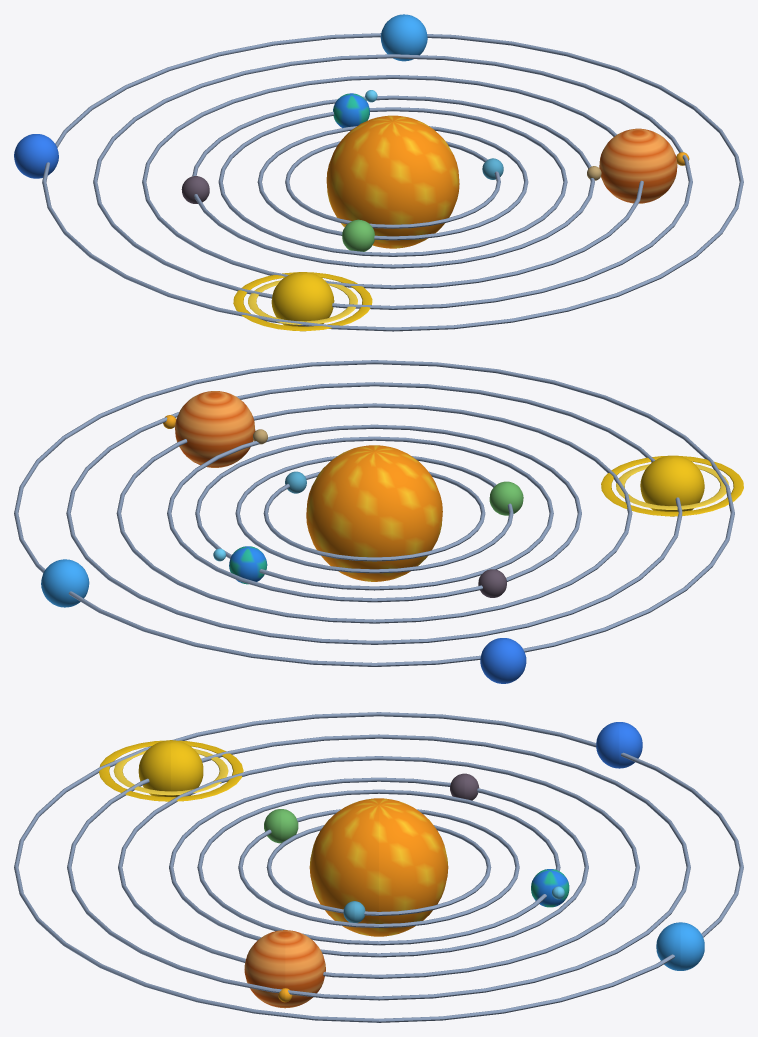
File: 10_solar_system_orrery.glb
3 views of the same model, one above another, from view 1: azimuth 30°, elevation 25°; view 2: azimuth 150°, elevation 25°; view 3: azimuth 270°, elevation 25° (orthographic). The views are drawn at different scales.
Parts seen in each view (by area): view 1: Ecliptic Planetary Orbital Tracks, The Sun (G-Type Main-Sequence Star), Saturn & Planetary Ring System, Jupiter & Galilean Moons, Ice Giants (Uranus & Neptune), Inner Terrestrial Planets (Mercury, Venus, Earth & Mars); view 2: Ecliptic Planetary Orbital Tracks, The Sun (G-Type Main-Sequence Star), Saturn & Planetary Ring System, Jupiter & Galilean Moons, Ice Giants (Uranus & Neptune), Inner Terrestrial Planets (Mercury, Venus, Earth & Mars); view 3: Ecliptic Planetary Orbital Tracks, The Sun (G-Type Main-Sequence Star), Saturn & Planetary Ring System, Jupiter & Galilean Moons, Ice Giants (Uranus & Neptune), Inner Terrestrial Planets (Mercury, Venus, Earth & Mars).
Part boxes in pixels (box(x1,y1,x2,y2)): Ecliptic Planetary Orbital Tracks: box(42, 33, 743, 331); The Sun (G-Type Main-Sequence Star): box(326, 115, 459, 248); Saturn & Planetary Ring System: box(233, 272, 372, 331); Jupiter & Galilean Moons: box(587, 128, 689, 203); Ice Giants (Uranus & Neptune): box(14, 14, 427, 178); Inner Terrestrial Planets (Mercury, Venus, Earth & Mars): box(181, 90, 503, 251); Ecliptic Planetary Orbital Tracks: box(14, 360, 734, 666); The Sun (G-Type Main-Sequence Star): box(306, 445, 442, 581); Saturn & Planetary Ring System: box(601, 455, 743, 516); Jupiter & Galilean Moons: box(163, 391, 267, 467); Ice Giants (Uranus & Neptune): box(41, 559, 526, 683); Inner Terrestrial Planets (Mercury, Venus, Earth & Mars): box(213, 471, 523, 597); Ecliptic Planetary Orbital Tracks: box(14, 712, 743, 1022); The Sun (G-Type Main-Sequence Star): box(309, 798, 448, 936); Saturn & Planetary Ring System: box(99, 740, 243, 801); Jupiter & Galilean Moons: box(244, 930, 325, 1008); Ice Giants (Uranus & Neptune): box(596, 722, 704, 970); Inner Terrestrial Planets (Mercury, Venus, Earth & Mars): box(264, 773, 569, 922).
Bounding box in the file's own units: 358 × 68 × 358.
